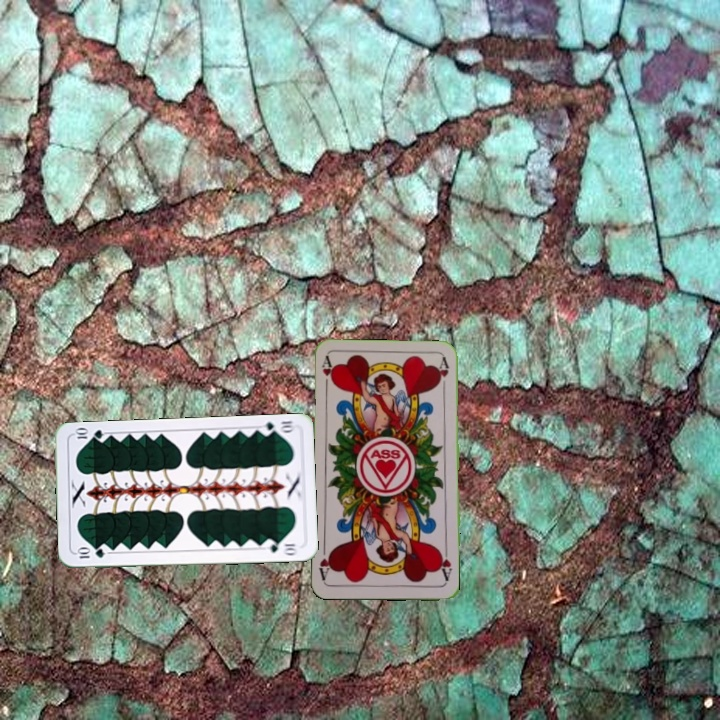G10: (256, 417, 297, 437), (73, 545, 107, 561)
HA: (435, 544, 455, 583), (318, 354, 337, 394)
